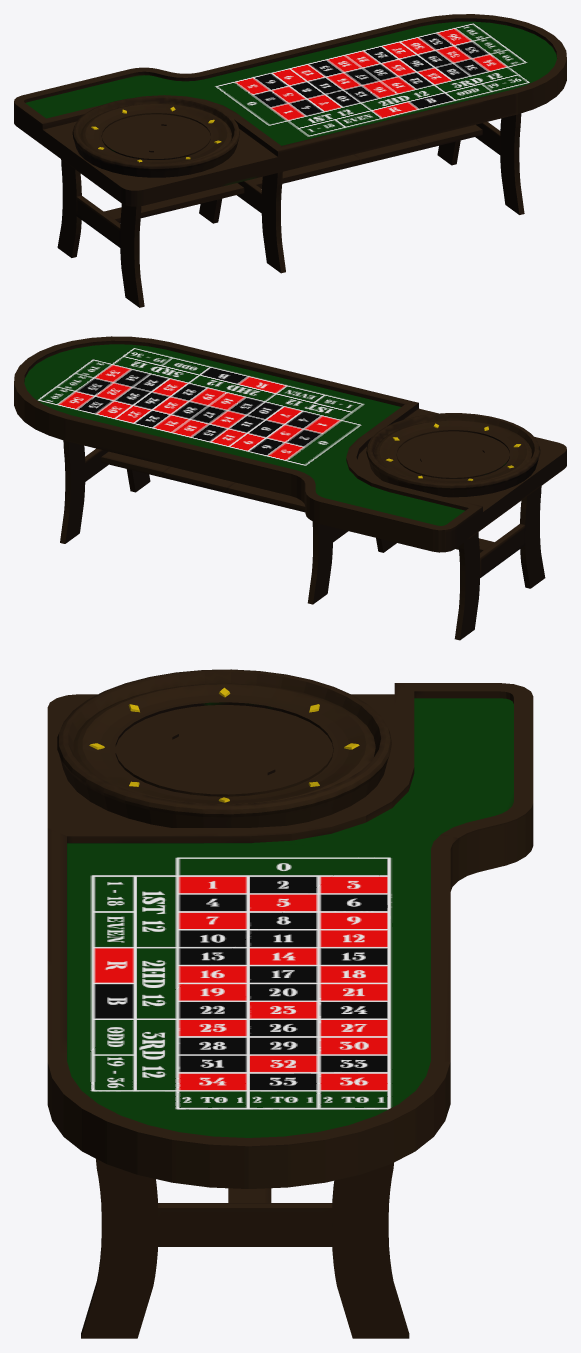
The model's file is ruletka.obj.
The picture shows the model from 3 angles, top to bottom: view 1: azimuth 30°, elevation 25°; view 2: azimuth 150°, elevation 25°; view 3: azimuth 270°, elevation 25°; orthographic projection. The views are drawn at different scales.
Visible parts, largest first — view 1: Circle.001, board_Plane.063; view 2: Circle.001, board_Plane.063; view 3: Circle.001, board_Plane.063.
Part boxes in pixels (box(x1,y1,x2,y2)): Circle.001: box(14, 14, 566, 307); board_Plane.063: box(203, 21, 556, 145); Circle.001: box(14, 336, 566, 640); board_Plane.063: box(24, 344, 400, 471); Circle.001: box(47, 669, 533, 1338); board_Plane.063: box(67, 843, 430, 1137).
Size of the model in its own units: 23.11 by 6.4 by 10.21.
3 materials, 3 textured.
